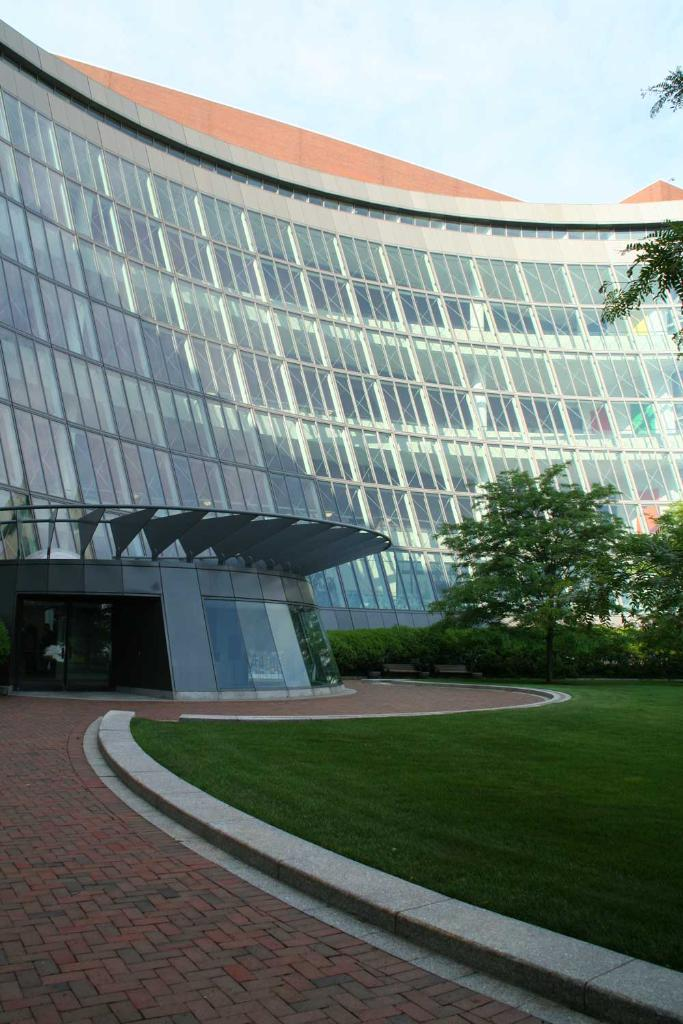Door: (118, 604, 181, 700)
